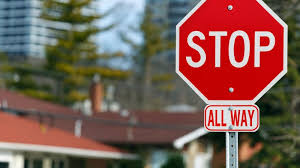stop sign: (176, 1, 289, 103)
